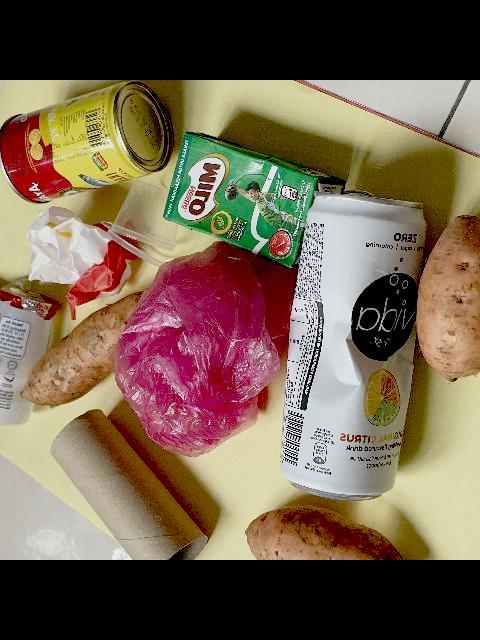drinkcan: (278, 190, 430, 502)
drinkpack: (161, 130, 345, 268)
foodcan: (0, 80, 174, 205)
paperbag: (25, 207, 139, 321)
plasticbag: (112, 239, 300, 459)
plasticbottle: (0, 286, 59, 425)
plasticcontainer: (100, 176, 181, 270)
sweetpotato: (18, 289, 154, 409), (413, 213, 480, 387), (242, 504, 408, 560)
teabag: (0, 269, 37, 357)
tissueroll: (49, 408, 209, 560)
